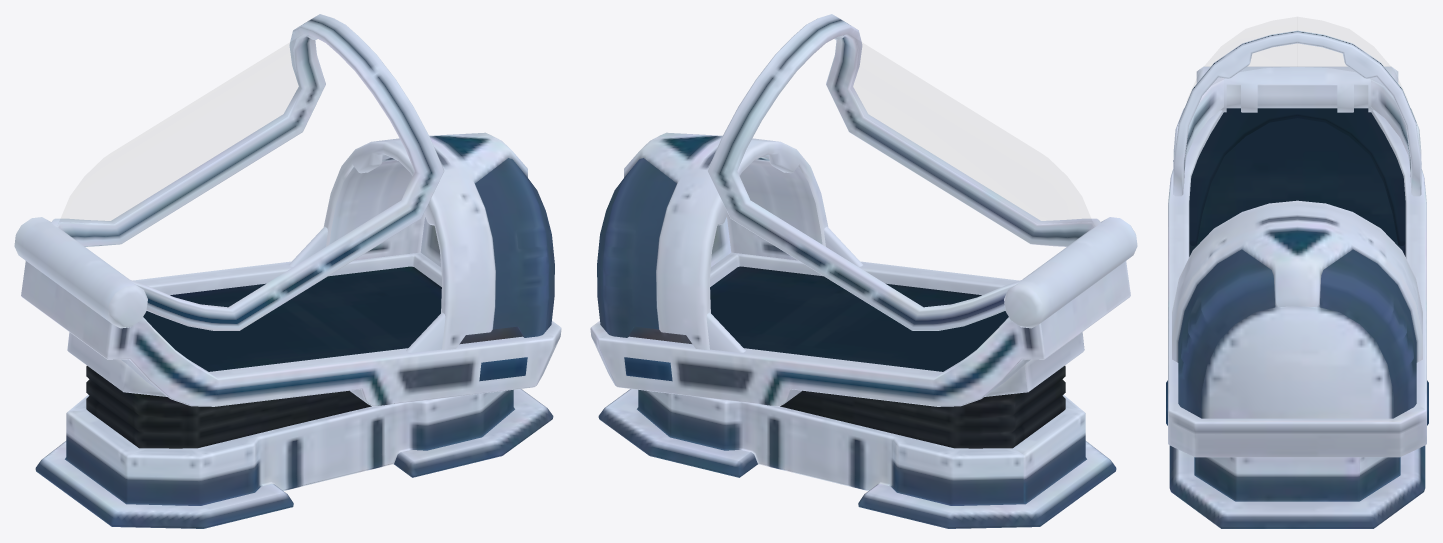
The picture shows the model from 3 angles, left to right: view 1: azimuth 30°, elevation 25°; view 2: azimuth 150°, elevation 25°; view 3: azimuth 270°, elevation 25°; orthographic projection.
Size of the model in its own units: 19.92 by 17.04 by 9.85.
Materials: 3 (3 with a texture image).
